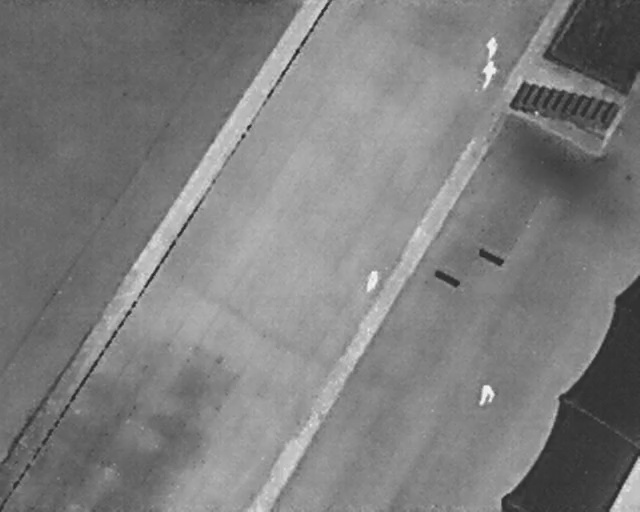Person: (478, 59, 499, 94), (363, 267, 380, 294), (478, 382, 495, 407), (483, 34, 498, 62)
